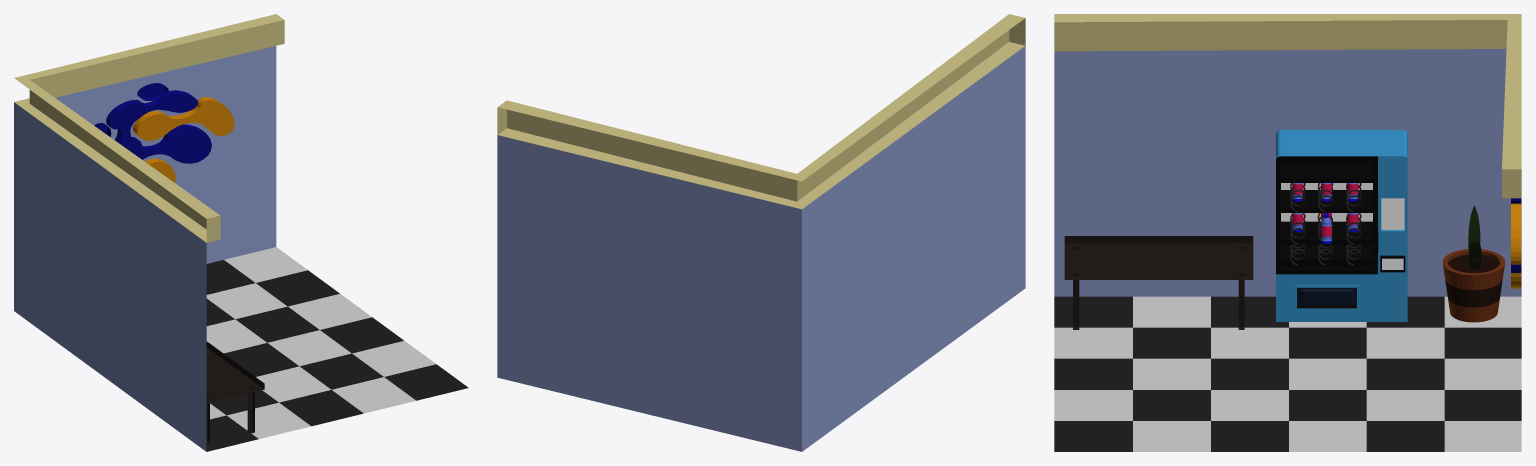
Rendered from AnimatedObject0035.obj.
3 views of the same model, side by side, from view 1: azimuth 30°, elevation 25°; view 2: azimuth 150°, elevation 25°; view 3: azimuth 270°, elevation 25° (orthographic). The views are drawn at different scales.
Parts seen in each view (by area): view 1: ruangan_Cube.003, meja_Cube.004, logo_Circle.005, logo.001_Circle.001, logo.005_Circle.002; view 2: ruangan_Cube.003; view 3: ruangan_Cube.003, vending_machine_Cube.001, meja_Cube.004, pot_bunga_Cylinder, per_second\_Spiral.010, Plane.007, logo_Circle.005.
Part boxes in pixels (x1,y1,x2,y2): ruangan_Cube.003: [14, 14, 468, 451]; meja_Cube.004: [206, 341, 264, 444]; logo_Circle.005: [133, 97, 234, 140]; logo.001_Circle.001: [115, 124, 211, 163]; logo.005_Circle.002: [106, 90, 197, 132]; ruangan_Cube.003: [497, 14, 1025, 451]; ruangan_Cube.003: [1054, 14, 1521, 451]; vending_machine_Cube.001: [1276, 130, 1407, 321]; meja_Cube.004: [1064, 236, 1253, 329]; pot_bunga_Cylinder: [1442, 249, 1505, 322]; per_second\_Spiral.010: [1290, 183, 1361, 265]; Plane.007: [1468, 206, 1481, 268]; logo_Circle.005: [1511, 203, 1521, 264].
Size of the model in its own units: 11.73 by 9.95 by 14.9.
